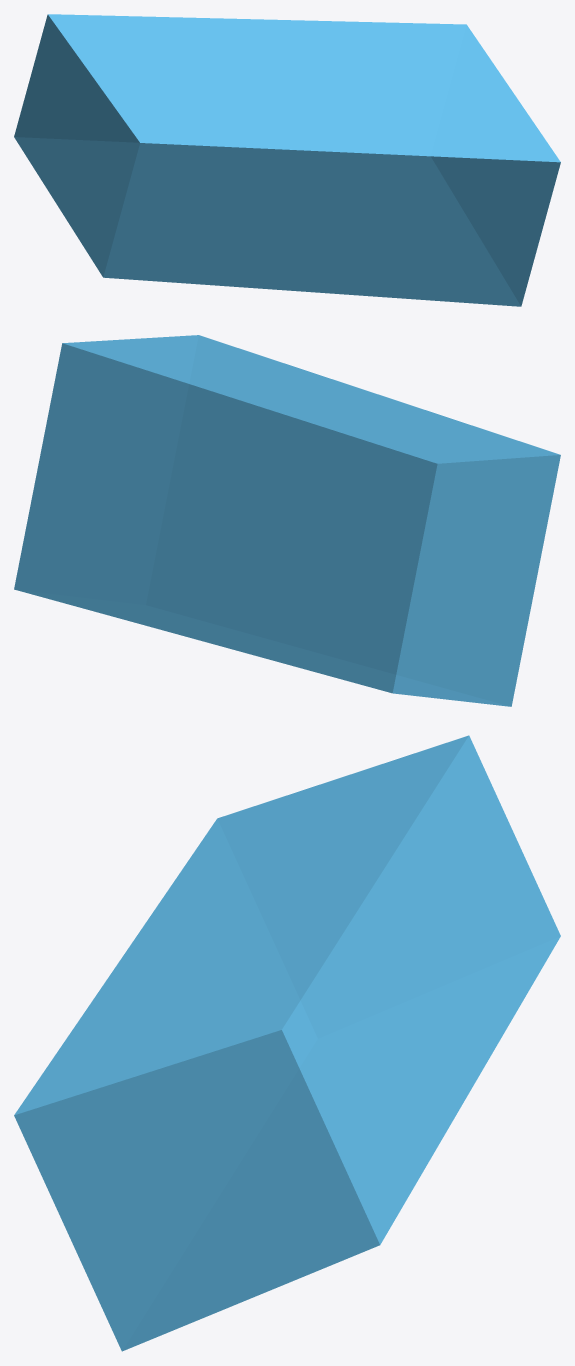
File: Event_420094457_HErechit_67.fbx
3 views of the same model, one above another, from view 1: azimuth 30°, elevation 25°; view 2: azimuth 150°, elevation 25°; view 3: azimuth 270°, elevation 25° (orthographic). The views are drawn at different scales.
Visible parts, largest first — view 1: Model; view 2: Model; view 3: Model.
Part boxes in pixels (bbox=[...]): Model: bbox=[14, 14, 560, 306]; Model: bbox=[14, 335, 560, 706]; Model: bbox=[14, 735, 560, 1351].
Bounding box in the file's own units: 0.8036 × 0.6222 × 0.7984.
